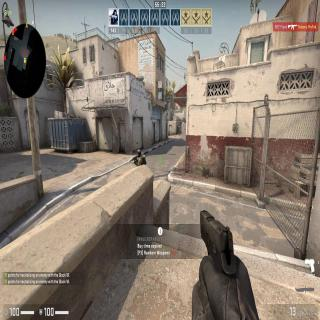CT-Body: (134, 150, 146, 163)
CT-Head: (137, 150, 141, 155)
